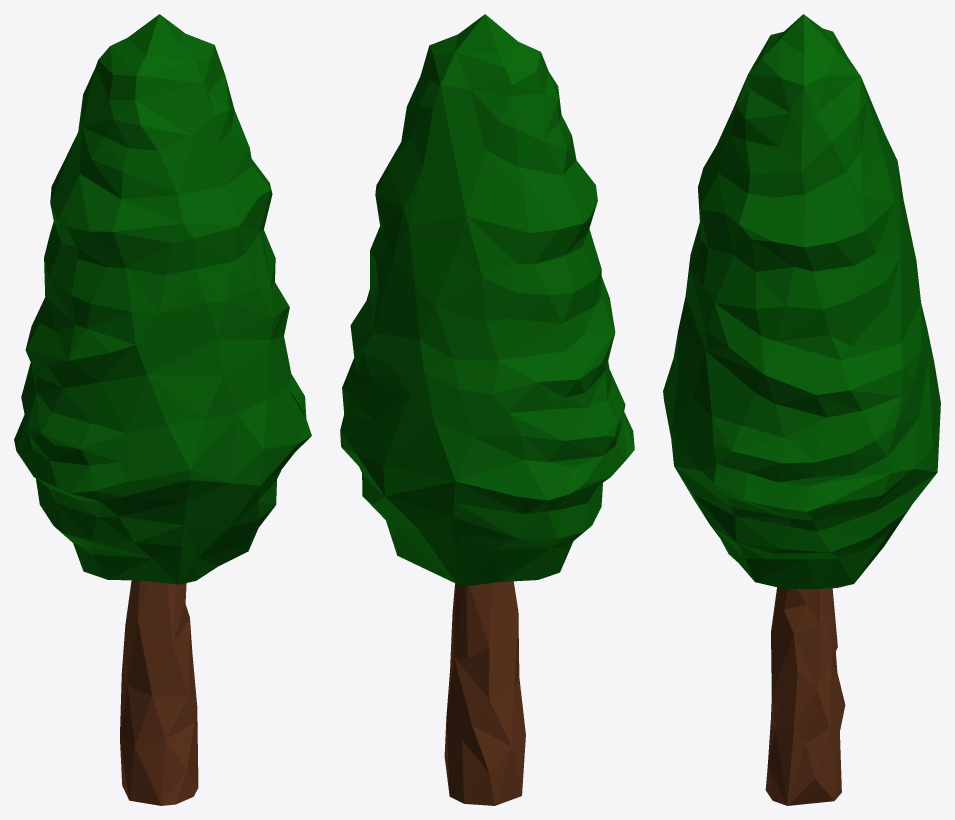
Rendered from bushtree.fbx.
3 renders of one model, left to right at view 1: azimuth 30°, elevation 25°; view 2: azimuth 150°, elevation 25°; view 3: azimuth 270°, elevation 25°, orthographic.
Visible parts, largest first — view 1: Bushtree.001, Bushtree; view 2: Bushtree.001, Bushtree; view 3: Bushtree.001, Bushtree.
Boxes of the visible parts, bbox=[...] form: Bushtree.001: bbox=[14, 14, 311, 584]; Bushtree: bbox=[120, 580, 198, 805]; Bushtree.001: bbox=[340, 14, 634, 586]; Bushtree: bbox=[444, 581, 525, 805]; Bushtree.001: bbox=[663, 14, 940, 589]; Bushtree: bbox=[765, 587, 845, 805].
Bounding box in the file's own units: 68.57 × 212 × 73.17.
